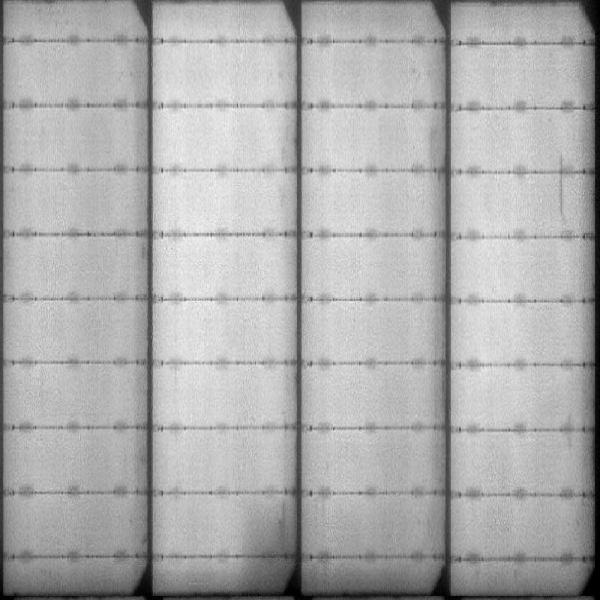scratch: (555, 156, 570, 216)
